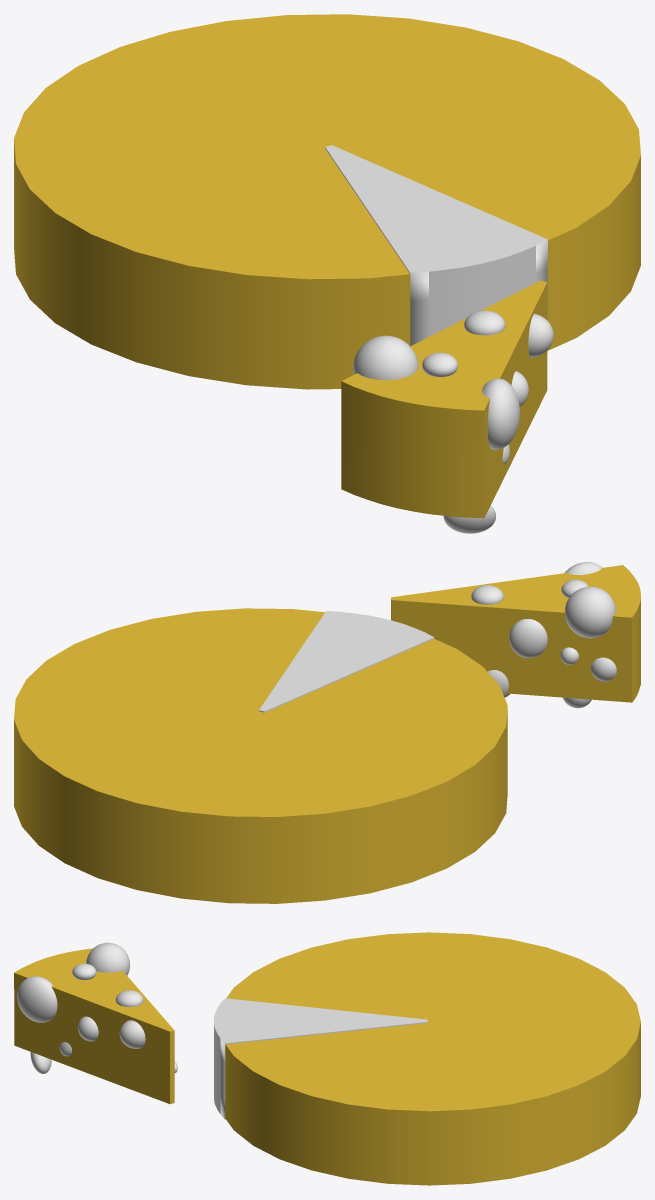
File: cheese_lighting.fbx
3 views of the same model, one above another, from view 1: azimuth 30°, elevation 25°; view 2: azimuth 150°, elevation 25°; view 3: azimuth 270°, elevation 25° (orthographic). The views are drawn at different scales.
Parts seen in each view (by area): view 1: Cylinder.002, Cube, Cube.005, Sphere; view 2: Cylinder.002, Cube, Cube.005, Sphere; view 3: Cylinder.002, Cube, Cube.005, Sphere.
Boxes of the visible parts, x1,y1,x2,y2 form: Cylinder.002: (14, 14, 640, 389); Cube: (341, 280, 547, 518); Cube.005: (325, 145, 547, 352); Sphere: (353, 310, 553, 533); Cylinder.002: (14, 608, 507, 903); Cube: (391, 565, 640, 702); Cube.005: (259, 611, 434, 712); Sphere: (471, 562, 616, 708); Cylinder.002: (225, 932, 640, 1185); Cube: (14, 948, 174, 1104); Cube.005: (214, 998, 427, 1119); Sphere: (17, 942, 177, 1073).
Size of the model in its own units: 2375 by 704 by 3518.
